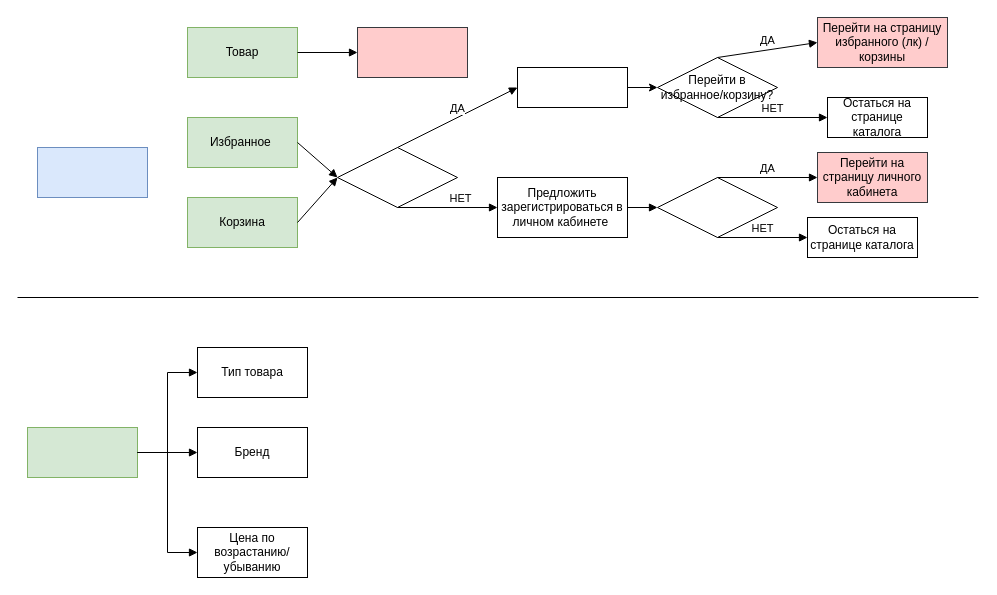
Some shapes in this 997 by 595 pixel diagram are drawn without their labels. The shapes that lost their labels are listed below. From the top down, each one's centre as x and y in pixels, then its label:
At point (412, 52): "Страница карточки товара".
At point (572, 87): "Добавить в избранное/корзину".
At point (92, 172): "Сетка товаров".
At point (397, 177): "Зарегистрирован ли пользователь?".
At point (717, 207): "Согласен?".
At point (82, 452): "Фильтры".
